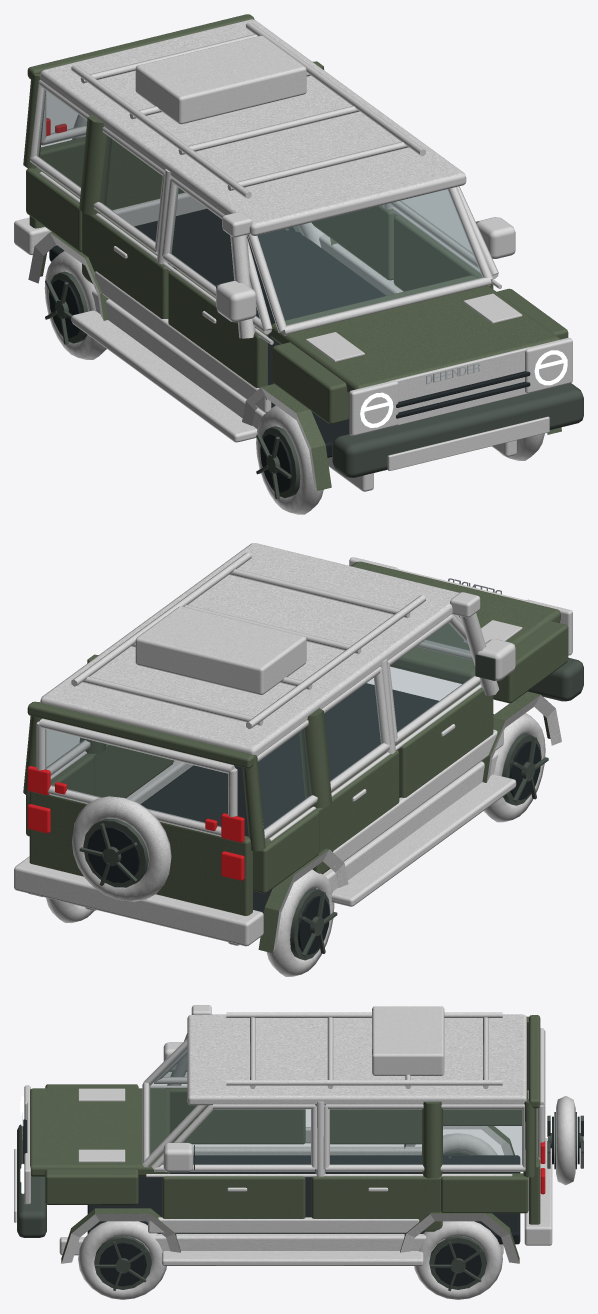
File: defender-lod.glb
3 views of the same model, one above another, from view 1: azimuth 30°, elevation 25°; view 2: azimuth 150°, elevation 25°; view 3: azimuth 270°, elevation 25° (orthographic). The views are drawn at different scales.
Parts seen in each view (by area): view 1: rubber_batch (×3), military_paint_batch, armoured_glass_batch, cabin_trim_batch (×3), brightwork_batch (×3), headlamp_batch; view 2: rubber_batch (×5), military_paint_batch, armoured_glass_batch, cabin_trim_batch (×4), brightwork_batch (×4), tail_lamp_batch; view 3: rubber_batch (×5), military_paint_batch, armoured_glass_batch, cabin_trim_batch (×3), brightwork_batch (×4).
Boxes of the visible parts, bbox=[...] form: rubber_batch (×3): bbox=[14, 19, 572, 514]; military_paint_batch: bbox=[23, 14, 568, 490]; armoured_glass_batch: bbox=[37, 89, 482, 324]; cabin_trim_batch (×3): bbox=[49, 209, 530, 492]; brightwork_batch (×3): bbox=[45, 221, 583, 498]; headlamp_batch: bbox=[360, 350, 567, 427]; rubber_batch (×5): bbox=[14, 543, 572, 976]; military_paint_batch: bbox=[23, 561, 568, 953]; armoured_glass_batch: bbox=[45, 622, 474, 829]; cabin_trim_batch (×4): bbox=[87, 683, 540, 954]; brightwork_batch (×4): bbox=[79, 654, 583, 960]; tail_lamp_batch: bbox=[27, 766, 244, 880]; rubber_batch (×5): bbox=[14, 1005, 575, 1299]; military_paint_batch: bbox=[30, 1015, 540, 1263]; armoured_glass_batch: bbox=[149, 1046, 521, 1164]; cabin_trim_batch (×3): bbox=[23, 1119, 520, 1286]; brightwork_batch (×4): bbox=[17, 1112, 583, 1291].
Bounding box in the file's own units: 2.36 × 2.26 × 5.14.
9 materials, 2 textured.
